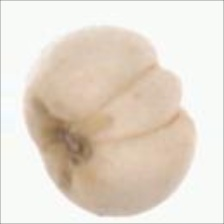L5: (84, 63, 184, 145), (25, 94, 93, 195)
L6: (21, 23, 201, 219)
